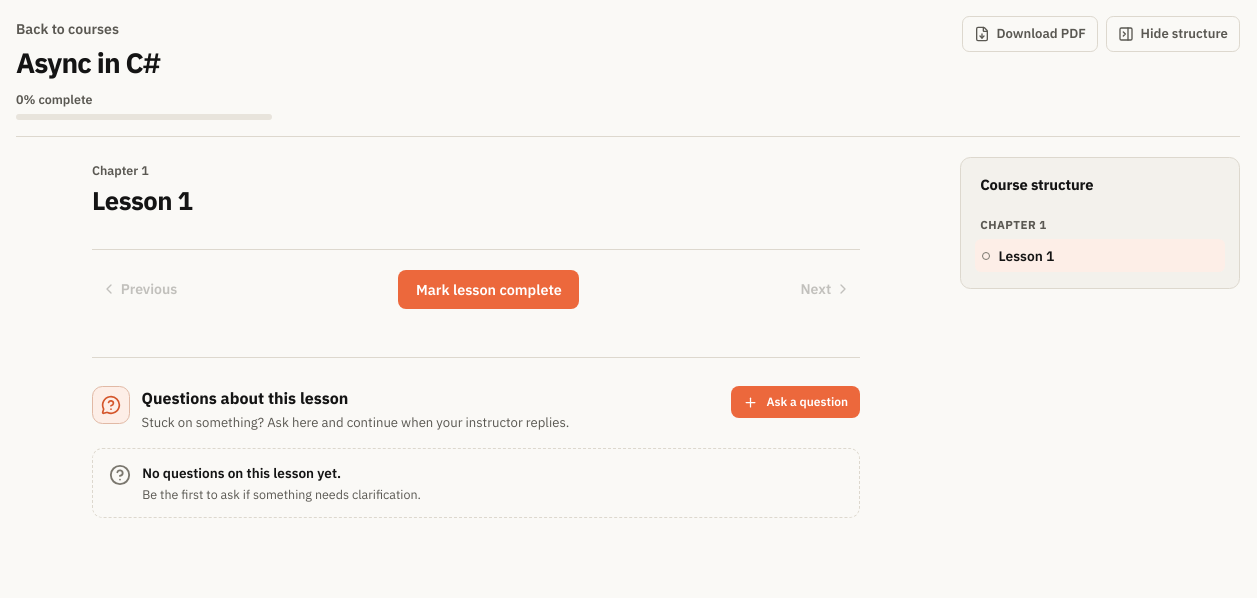
Test: CourseLearnView › shows an error when the PDF cannot be prepared
Click the button "Download PDF": (1030, 34) left=962, top=16, right=1098, bottom=52
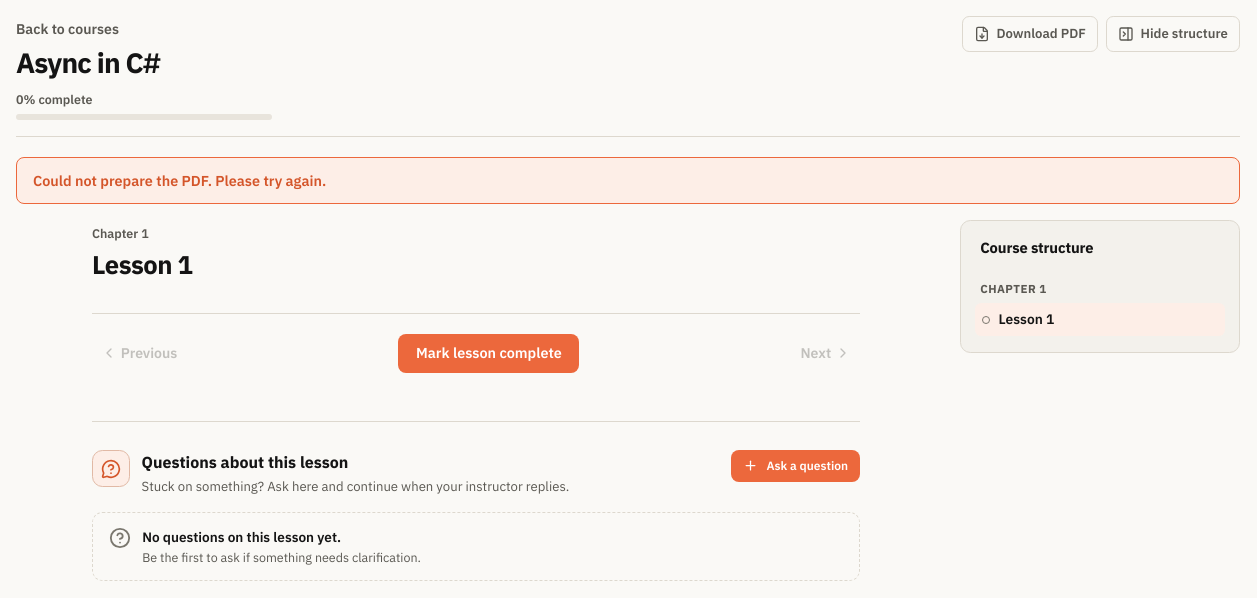
expect the message shows "Could not prepare the PDF": met, box left=33, top=171, right=326, bottom=190
